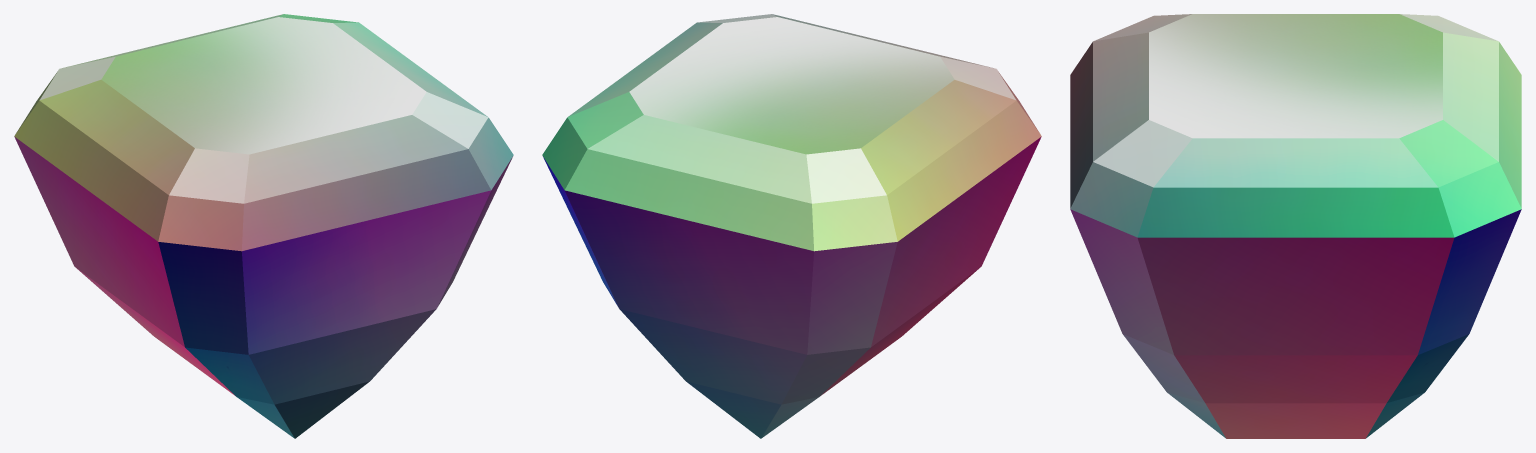
File: Diamond_2.fbx
The picture shows the model from 3 angles, left to right: view 1: azimuth 30°, elevation 25°; view 2: azimuth 150°, elevation 25°; view 3: azimuth 270°, elevation 25°; orthographic projection. The views are drawn at different scales.
Visible parts, largest first — view 1: Diamond_2; view 2: Diamond_2; view 3: Diamond_2.
Part boxes in pixels (left/top/right/bottom): Diamond_2: left=14, top=14, right=513, bottom=438; Diamond_2: left=542, top=14, right=1041, bottom=438; Diamond_2: left=1070, top=14, right=1521, bottom=438.
Size of the model in its own units: 117 by 104 by 117.
